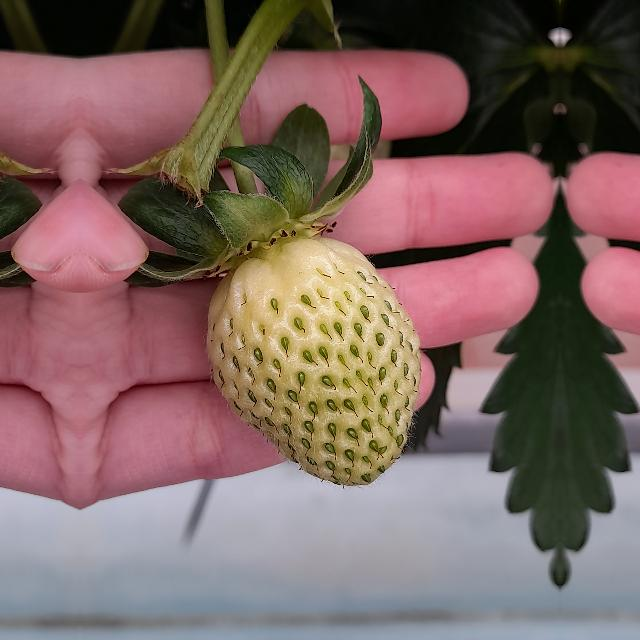Health_25: (206, 235, 420, 485)
